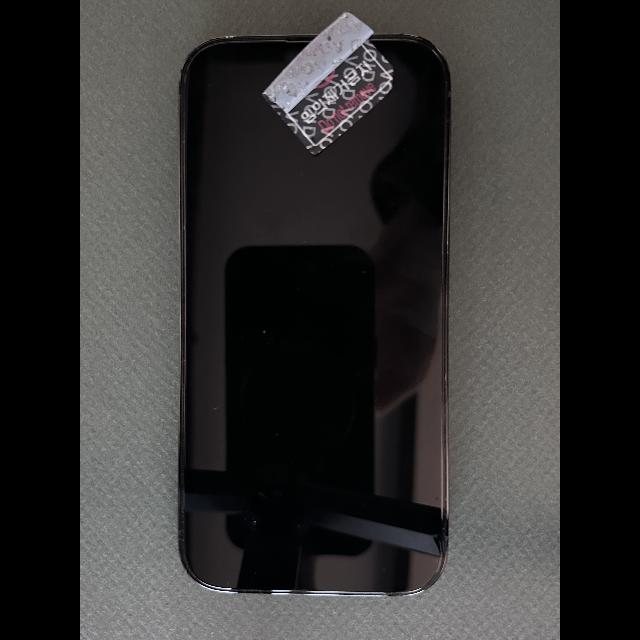phone: (177, 33, 451, 597)
sticker: (262, 11, 394, 156)
